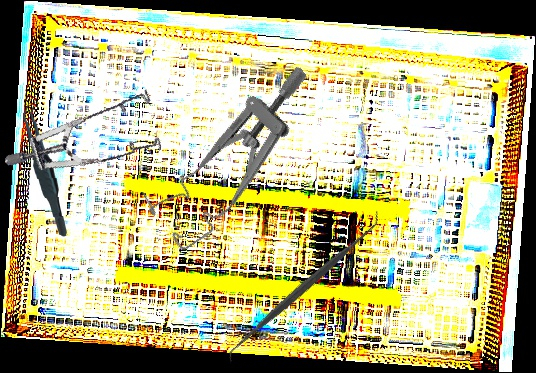Spatula Surgical: (216, 208, 392, 365)
Speculum: (128, 63, 350, 255), (3, 55, 177, 207)
Tissue Forceps: (22, 99, 68, 239)
